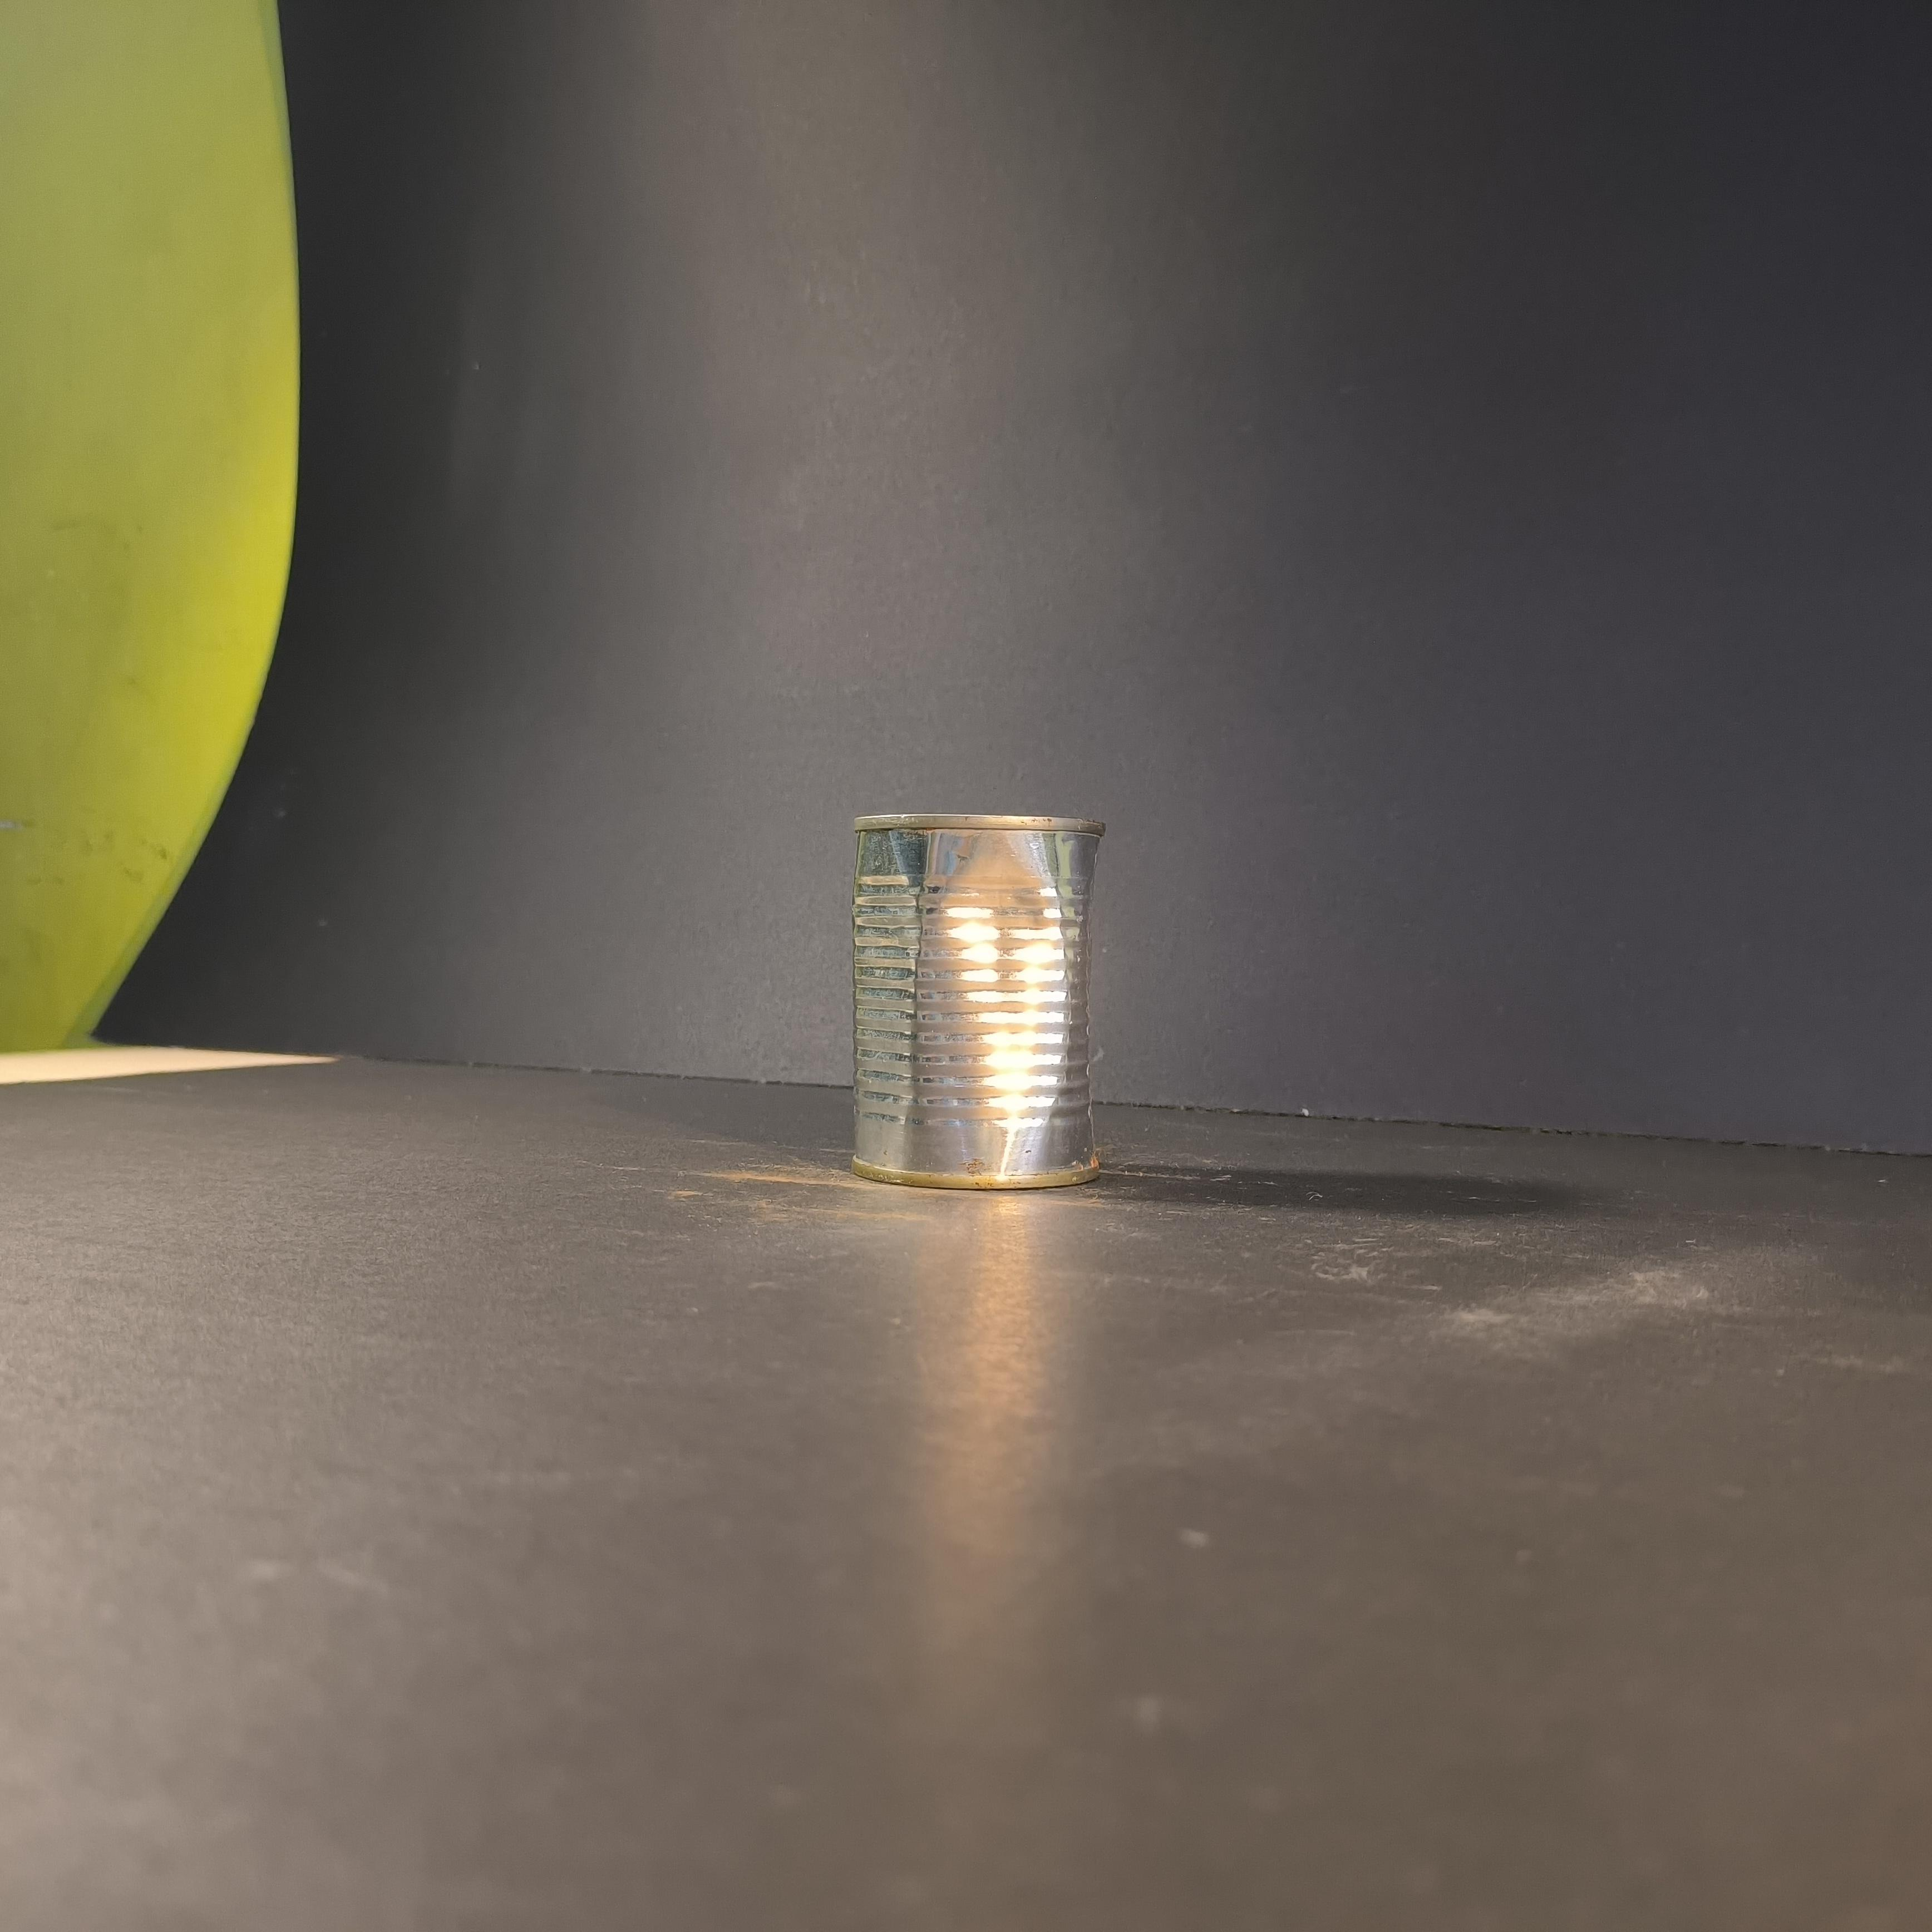Dented: (837, 782, 1132, 1219)
